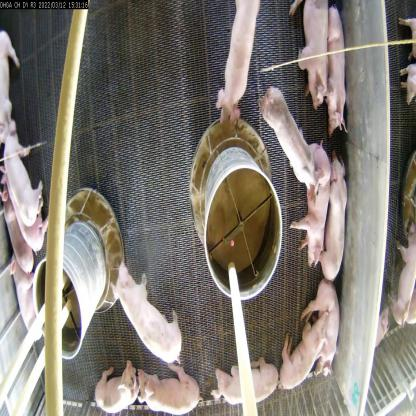Pig: (108, 259, 190, 374), (256, 82, 319, 193), (217, 0, 262, 131), (291, 134, 330, 278), (277, 303, 329, 396), (288, 0, 331, 110), (0, 125, 44, 227), (300, 270, 340, 381), (212, 352, 280, 414), (134, 360, 206, 415), (5, 245, 43, 349), (324, 3, 351, 143), (2, 174, 37, 276), (322, 158, 348, 282), (93, 354, 140, 416)
